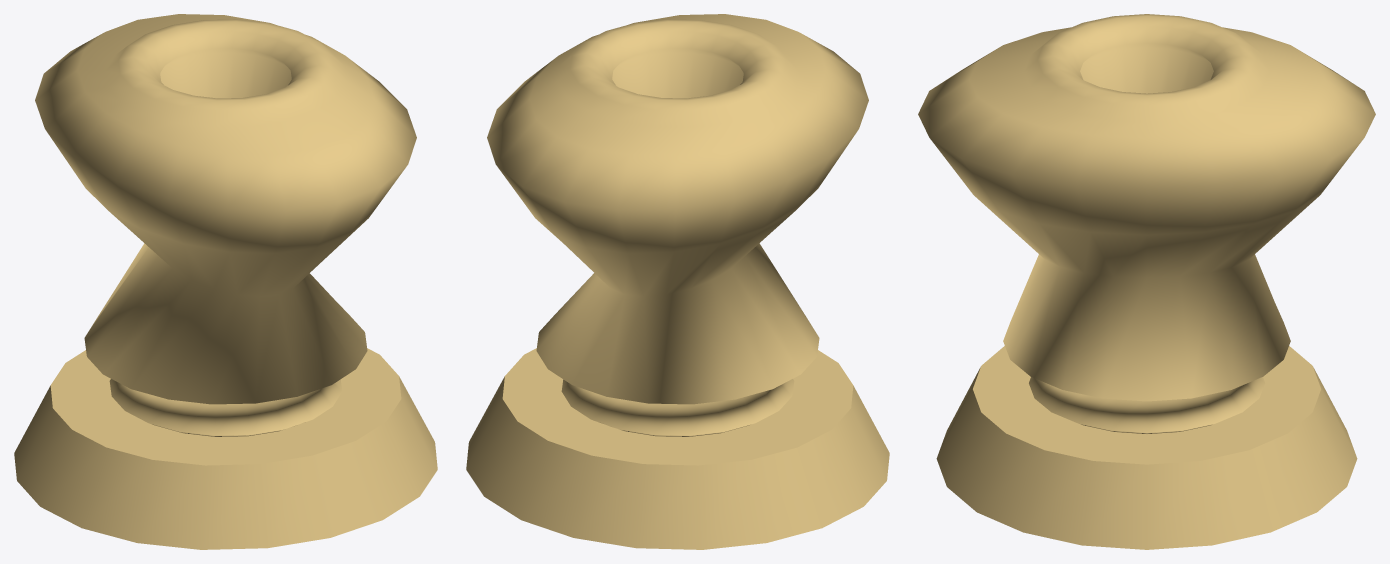
File: Pottery 6.fbx
3 views of the same model, side by side, from view 1: azimuth 30°, elevation 25°; view 2: azimuth 150°, elevation 25°; view 3: azimuth 270°, elevation 25° (orthographic).
Parts seen in each view (by area): view 1: pCylinder1.001; view 2: pCylinder1.001; view 3: pCylinder1.001.
Part boxes in pixels (x1=…): pCylinder1.001: x1=14, y1=14, x2=437, y2=549; pCylinder1.001: x1=466, y1=14, x2=889, y2=549; pCylinder1.001: x1=918, y1=14, x2=1375, y2=549.
Size of the model in its own units: 13315 by 13702 by 14120.
